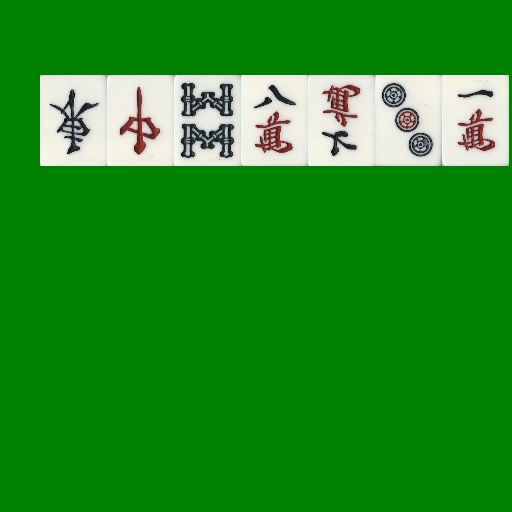1m: (442, 75, 509, 166)
3p: (375, 75, 442, 166)
7m: (308, 75, 375, 166)
8m: (241, 75, 308, 166)
8s: (174, 75, 241, 166)
east: (40, 75, 107, 166)
tyun: (107, 75, 174, 166)
